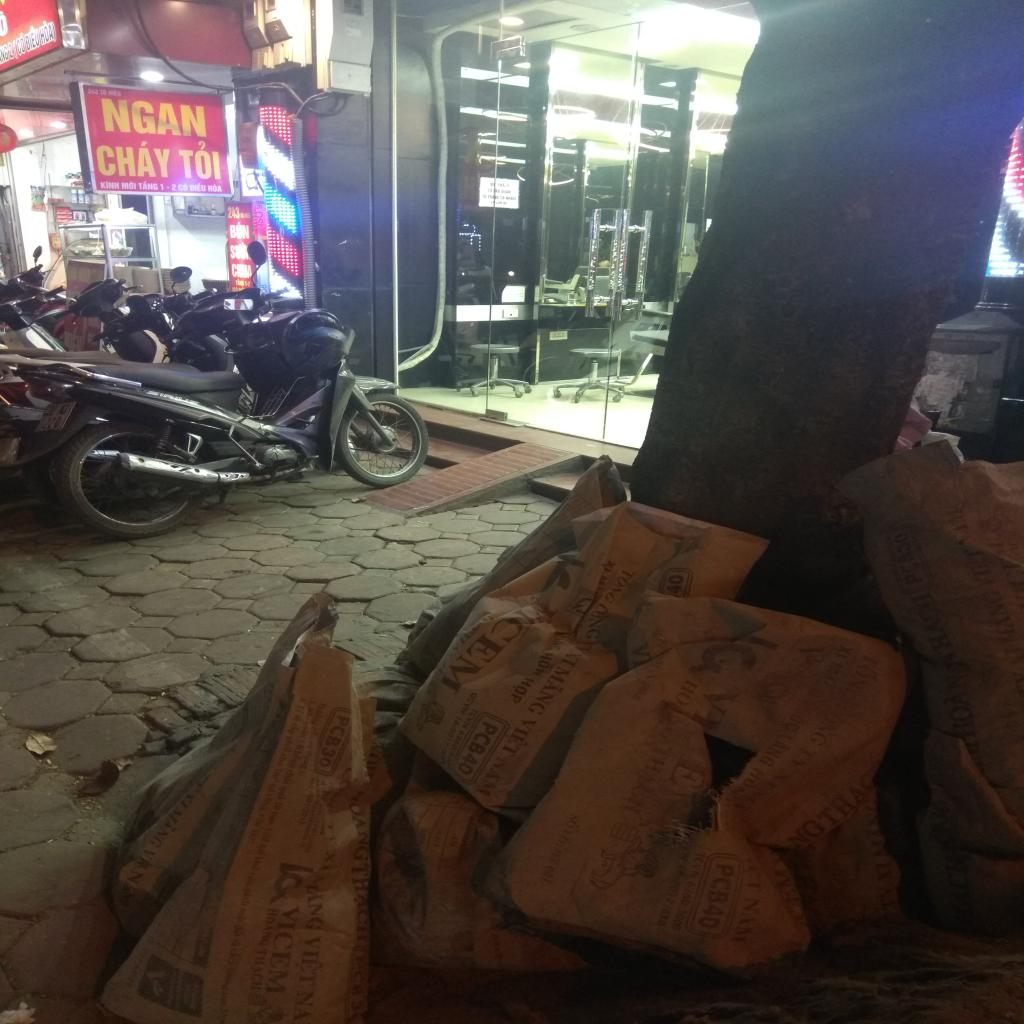text: (434, 612, 530, 698), (780, 780, 869, 851), (100, 98, 208, 138), (264, 904, 303, 995), (694, 862, 739, 933), (522, 664, 578, 720), (94, 138, 172, 178), (454, 719, 504, 779), (937, 672, 980, 740), (686, 689, 746, 737), (494, 714, 544, 762), (663, 753, 713, 795), (316, 713, 352, 770), (292, 934, 330, 988), (753, 731, 802, 771), (600, 566, 644, 610), (176, 139, 222, 181), (726, 895, 764, 945), (148, 805, 188, 852), (348, 862, 371, 942), (667, 880, 700, 934), (977, 589, 1017, 629), (302, 871, 328, 932), (576, 600, 612, 642), (942, 509, 978, 546), (501, 674, 540, 707), (473, 766, 508, 799), (244, 948, 270, 992), (670, 678, 704, 710), (256, 906, 281, 949), (526, 650, 563, 679), (942, 852, 970, 889), (351, 815, 372, 861), (762, 764, 794, 794), (629, 674, 661, 704), (896, 559, 928, 588), (291, 990, 317, 1024), (686, 850, 710, 881), (640, 754, 670, 778), (562, 812, 592, 836), (38, 17, 58, 49), (742, 785, 771, 807), (557, 648, 583, 670), (773, 868, 799, 890), (459, 690, 480, 717), (285, 744, 306, 770), (318, 848, 339, 873), (445, 715, 465, 741), (832, 642, 857, 662), (875, 859, 895, 883), (629, 639, 654, 658), (665, 573, 685, 596), (11, 32, 27, 60), (572, 640, 599, 656), (450, 729, 468, 752), (229, 222, 251, 240), (231, 263, 254, 279), (39, 416, 65, 430), (460, 711, 478, 731), (24, 30, 40, 52), (280, 735, 298, 754), (124, 870, 146, 885), (281, 768, 297, 788), (599, 558, 619, 574), (553, 833, 571, 850), (284, 722, 303, 738), (274, 785, 291, 802), (296, 759, 312, 775), (137, 180, 159, 191), (274, 752, 290, 767), (143, 389, 167, 398), (891, 532, 911, 542), (100, 180, 120, 190), (226, 206, 240, 220), (189, 182, 206, 192), (207, 183, 224, 193), (6, 42, 15, 60), (121, 180, 137, 190), (290, 714, 305, 724), (1, 46, 9, 64), (272, 801, 285, 811), (108, 89, 122, 98), (296, 695, 308, 704), (178, 182, 188, 192), (306, 699, 317, 708), (87, 88, 99, 96), (230, 244, 236, 260), (234, 278, 244, 287), (98, 88, 108, 96), (505, 195, 517, 201), (501, 189, 512, 194), (159, 183, 165, 191), (171, 184, 177, 192), (256, 204, 264, 210), (0, 0, 6, 6), (487, 188, 494, 193), (260, 285, 268, 289), (495, 189, 501, 194), (482, 194, 488, 199), (500, 196, 506, 200), (244, 280, 248, 286), (488, 195, 493, 199), (248, 282, 251, 288), (497, 195, 500, 200), (258, 224, 264, 226)
